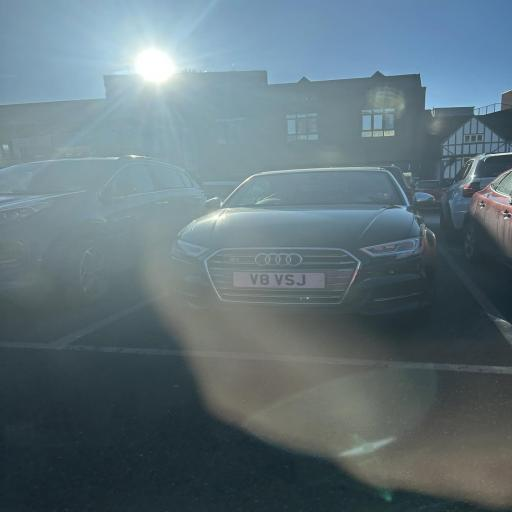numberplates: (233, 272, 325, 288)
